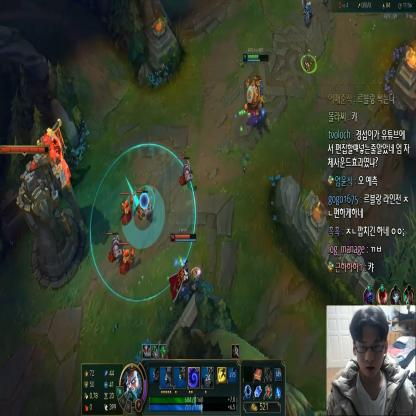streamer: (327, 305, 416, 416)
